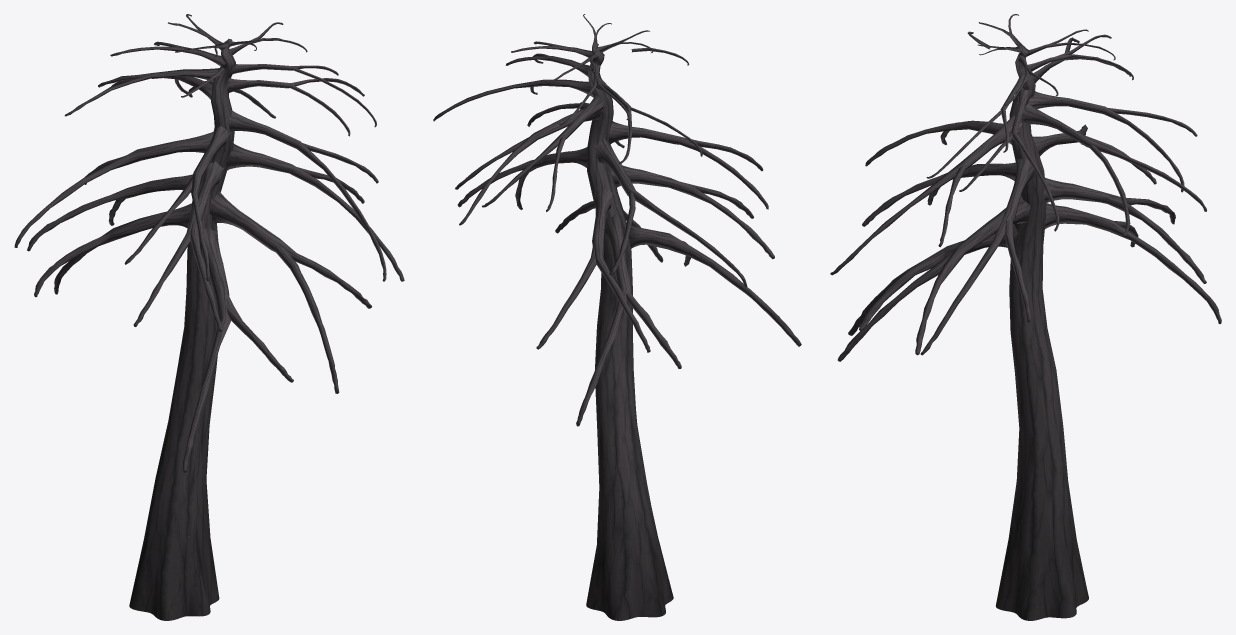
Rendered from dead-tree-n8fhmgmldd-transformed.glb.
The picture shows the model from 3 angles, left to right: view 1: azimuth 30°, elevation 25°; view 2: azimuth 150°, elevation 25°; view 3: azimuth 270°, elevation 25°; orthographic projection. The views are drawn at different scales.
Parts seen in each view (by area): view 1: DeadTree_4; view 2: DeadTree_4; view 3: DeadTree_4.
Boxes of the visible parts, x1,y1,x2,y2 form: DeadTree_4: (14,14,404,620); DeadTree_4: (433,14,801,620); DeadTree_4: (830,14,1221,620).
Bounding box in the file's own units: 7.96 × 12.77 × 7.73.
Materials: 1 (1 with a texture image).
